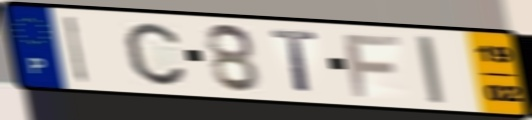8: (204, 22, 262, 95)
C: (122, 20, 189, 88)
F: (341, 33, 405, 100)
I: (413, 34, 448, 105), (63, 13, 91, 85)
T: (268, 28, 322, 97)
